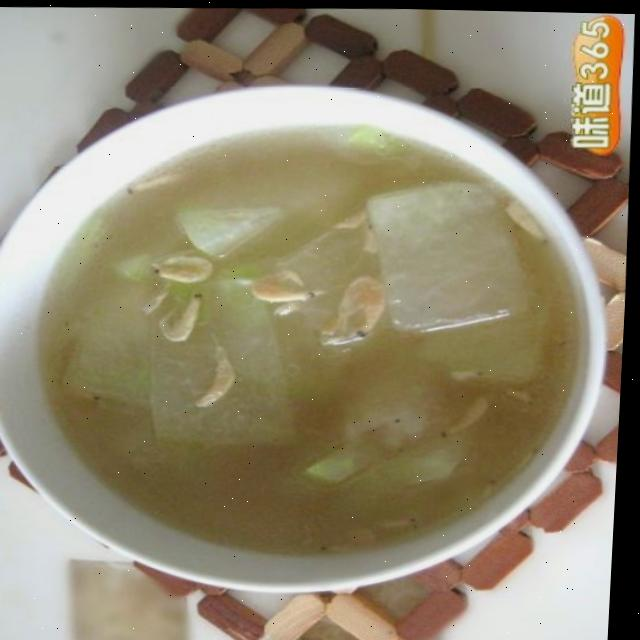汤锅炖物: (0, 29, 626, 621)
